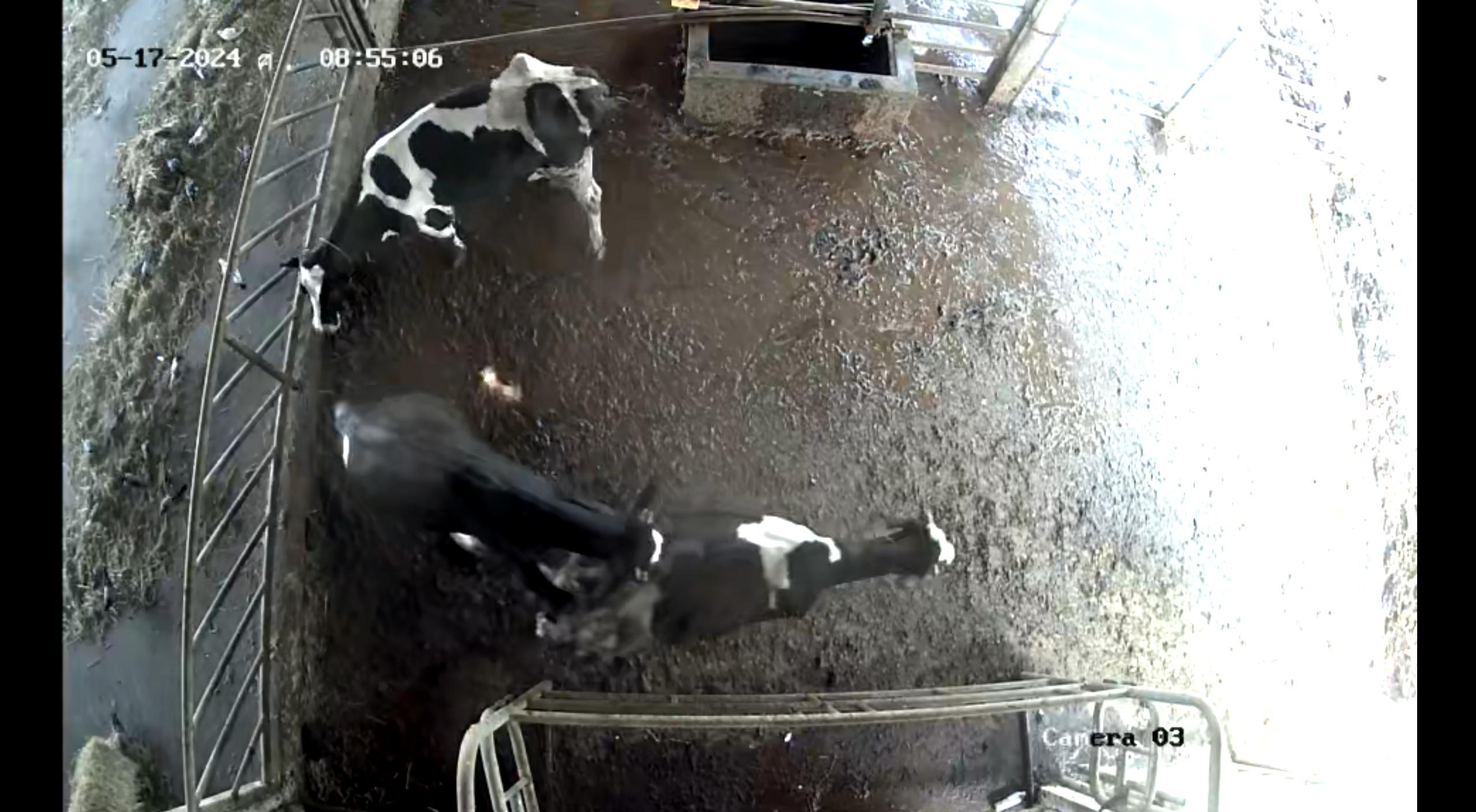ride: (320, 377, 694, 626)
stand: (273, 46, 646, 352), (622, 431, 966, 663)
